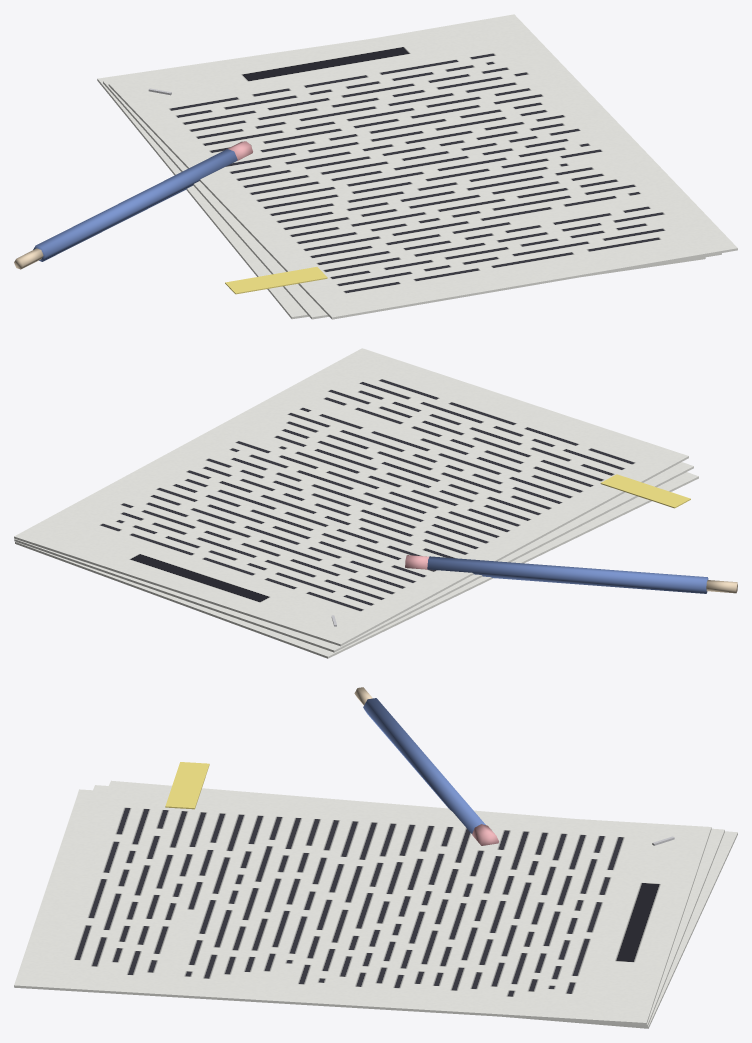
Rendered from escena.casa.contrato_arriendo.fbx.
The picture shows the model from 3 angles, top to bottom: view 1: azimuth 30°, elevation 25°; view 2: azimuth 150°, elevation 25°; view 3: azimuth 270°, elevation 25°; orthographic projection. The views are drawn at different scales.
Parts seen in each view (by area): view 1: Hoja del contrato.002, Lapiz pasta, Hoja del contrato.001, Hoja del contrato, Banderita firme aqui; view 2: Hoja del contrato.002, Lapiz pasta, Hoja del contrato.001, Hoja del contrato, Banderita firme aqui; view 3: Hoja del contrato.002, Hoja del contrato.001, Hoja del contrato, Lapiz pasta, Banderita firme aqui.
Boxes of the visible parts, left/top/right/bottom form: Hoja del contrato.002: left=108, top=14, right=737, bottom=319; Lapiz pasta: left=33, top=149, right=237, bottom=261; Hoja del contrato.001: left=103, top=38, right=721, bottom=319; Hoja del contrato: left=97, top=41, right=705, bottom=319; Banderita firme aqui: left=225, top=267, right=327, bottom=294; Hoja del contrato.002: left=14, top=348, right=688, bottom=646; Lapiz pasta: left=427, top=556, right=708, bottom=593; Hoja del contrato.001: left=14, top=462, right=693, bottom=652; Hoja del contrato: left=15, top=472, right=698, bottom=658; Banderita firme aqui: left=600, top=474, right=690, bottom=508; Hoja del contrato.002: left=14, top=789, right=711, bottom=1025; Hoja del contrato.001: left=93, top=785, right=724, bottom=1026; Hoja del contrato: left=109, top=780, right=737, bottom=1028; Lapiz pasta: left=363, top=698, right=485, bottom=833; Banderita firme aqui: left=165, top=762, right=209, bottom=809.
Bounding box in the file's own units: 0.3663 × 0.0092 × 0.3401.
Materials: 8 (3 with a texture image).
